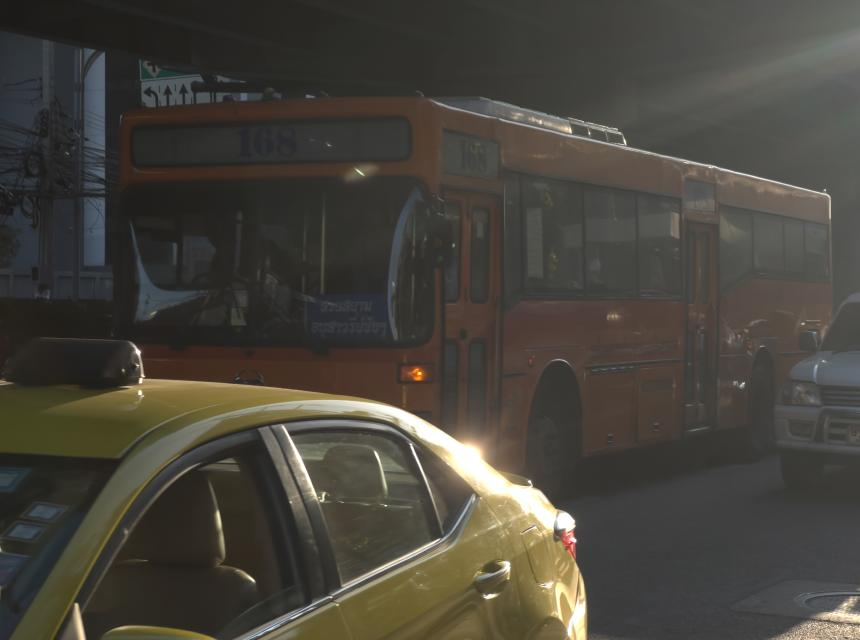BMTA-bus: (108, 90, 834, 486)
Bus Line Number: (231, 122, 304, 165)
Destination Sign: (306, 294, 403, 338)
